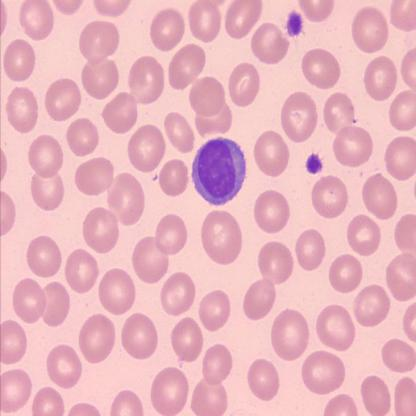Lymphocyte: (191, 135, 247, 206)
